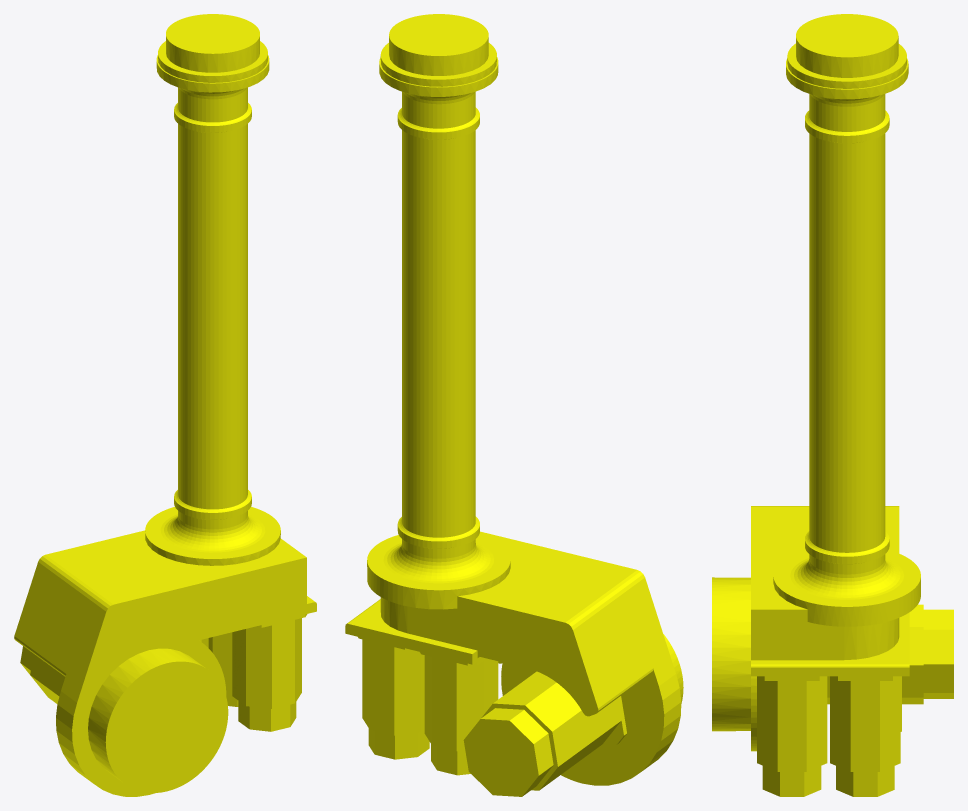
3 views of the same model, side by side, from view 1: azimuth 30°, elevation 25°; view 2: azimuth 150°, elevation 25°; view 3: azimuth 270°, elevation 25° (orthographic). The views are drawn at different scales.
Parts seen in each view (by area): view 1: node; view 2: node; view 3: node.
Boxes of the visible parts, left/top/right/bottom form: node: left=14, top=14, right=316, bottom=796; node: left=345, top=14, right=683, bottom=796; node: left=712, top=14, right=953, bottom=796.
Size of the model in its own units: 566 by 1553 by 445.
